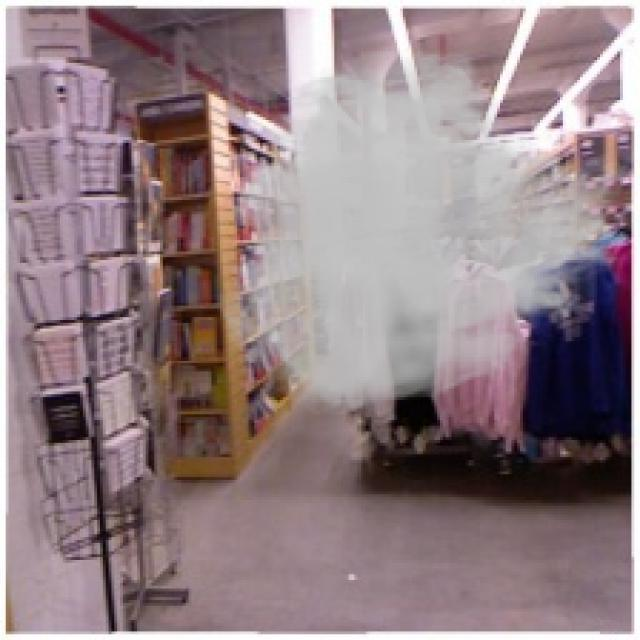Smoke: (214, 46, 637, 417)
